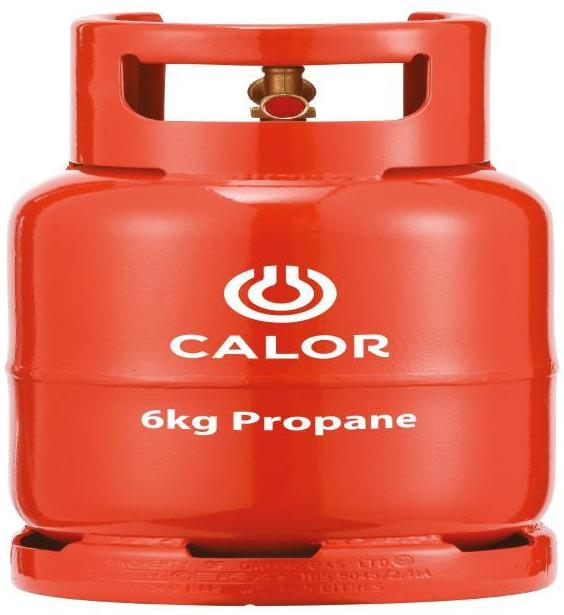cylinder: (1, 1, 564, 615)
